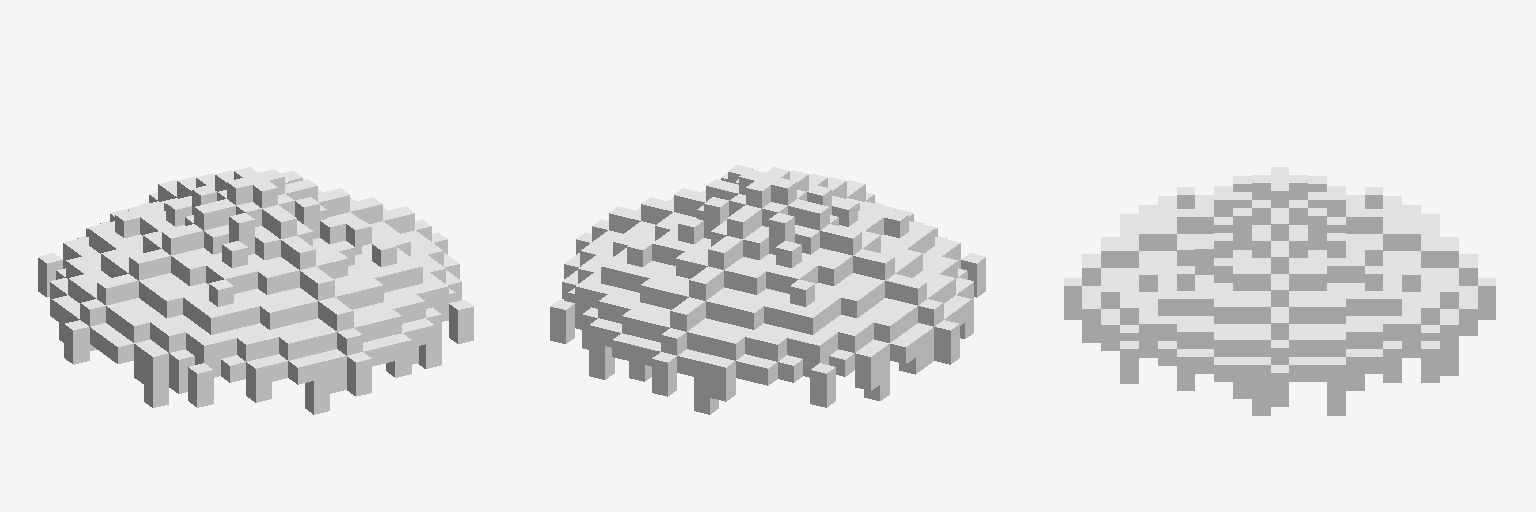
Rendered from toit_campagne_pauvre_2.obj.
3 renders of one model, left to right at view 1: azimuth 30°, elevation 25°; view 2: azimuth 150°, elevation 25°; view 3: azimuth 270°, elevation 25°, orthographic.
Visible parts, largest first — view 1: toit_campagne_pauvre_2; view 2: toit_campagne_pauvre_2; view 3: toit_campagne_pauvre_2.
Part boxes in pixels (x1,y1,x2,y2): toit_campagne_pauvre_2: (38,167,473,414); toit_campagne_pauvre_2: (550,165,985,414); toit_campagne_pauvre_2: (1064,167,1495,415).
Bounding box in the file's own units: 23 × 9 × 23.